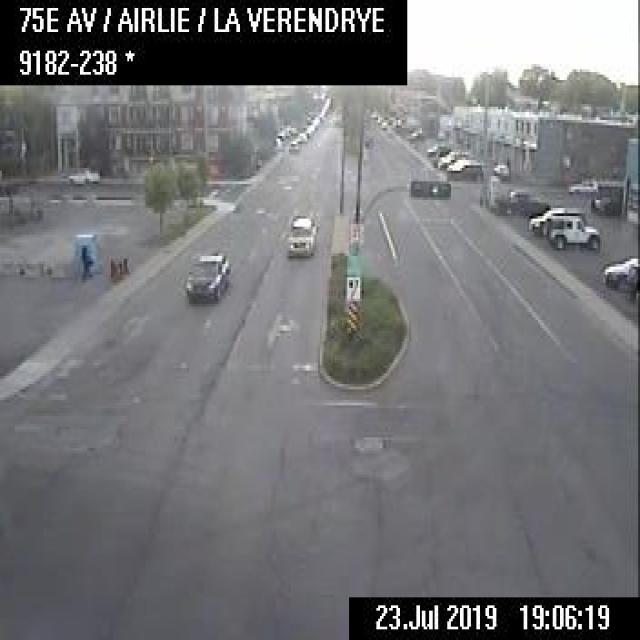construction: (108, 253, 115, 275), (120, 254, 128, 272), (115, 256, 121, 277)
pedestrian: (77, 243, 93, 278)
vehicle: (184, 246, 231, 302), (546, 211, 600, 251), (284, 208, 318, 256), (601, 251, 638, 287), (526, 204, 567, 234), (447, 156, 486, 182), (66, 163, 100, 184), (436, 148, 468, 170), (564, 173, 600, 192), (491, 158, 508, 176), (425, 142, 449, 154), (287, 138, 298, 149), (293, 132, 303, 142)
